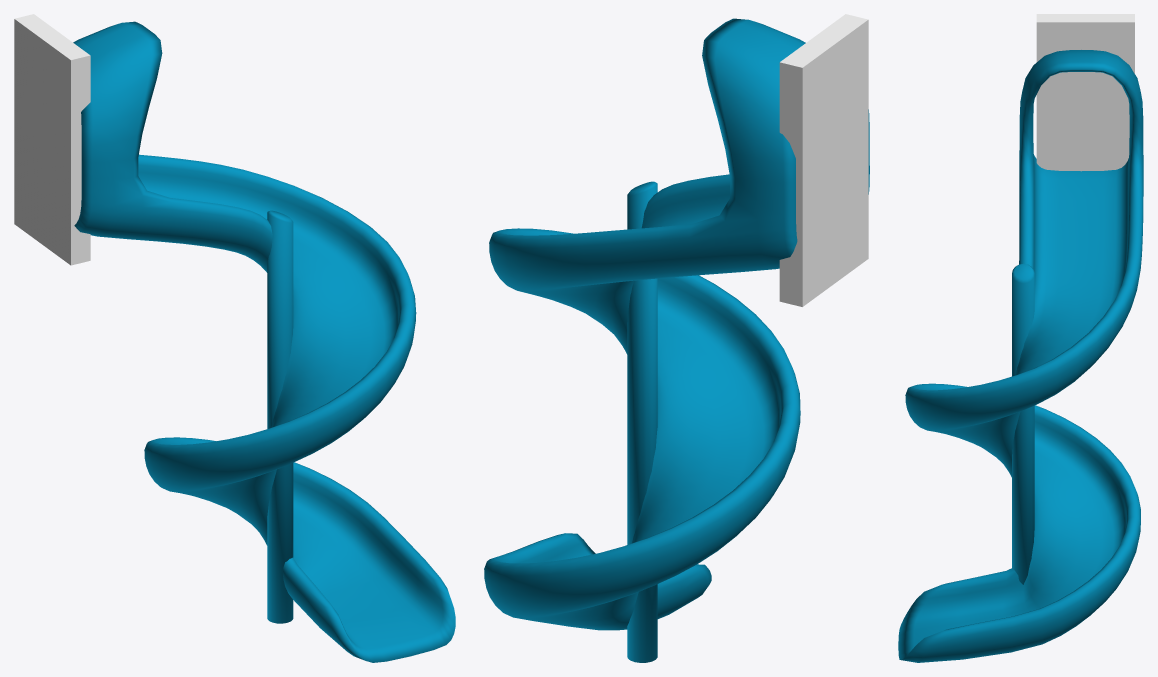
Rendered from SUPS-7.09d63d01.glb.
The picture shows the model from 3 angles, left to right: view 1: azimuth 30°, elevation 25°; view 2: azimuth 150°, elevation 25°; view 3: azimuth 270°, elevation 25°; orthographic projection. The views are drawn at different scales.
Parts seen in each view (by area): view 1: Plane042,_colorize_, joint,3,8; view 2: Plane042,_colorize_, joint,3,8; view 3: Plane042,_colorize_, joint,3,8.
Boxes of the visible parts, x1=… form: Plane042,_colorize_: x1=73, y1=21, x2=455, y2=662; joint,3,8: x1=14, y1=14, x2=90, y2=265; Plane042,_colorize_: x1=484, y1=18, x2=869, y2=662; joint,3,8: x1=779, y1=14, x2=868, y2=306; Plane042,_colorize_: x1=898, y1=50, x2=1143, y2=662; joint,3,8: x1=1036, y1=14, x2=1134, y2=171.
Bounding box in the file's own units: 1.64 × 2.94 × 1.25.
